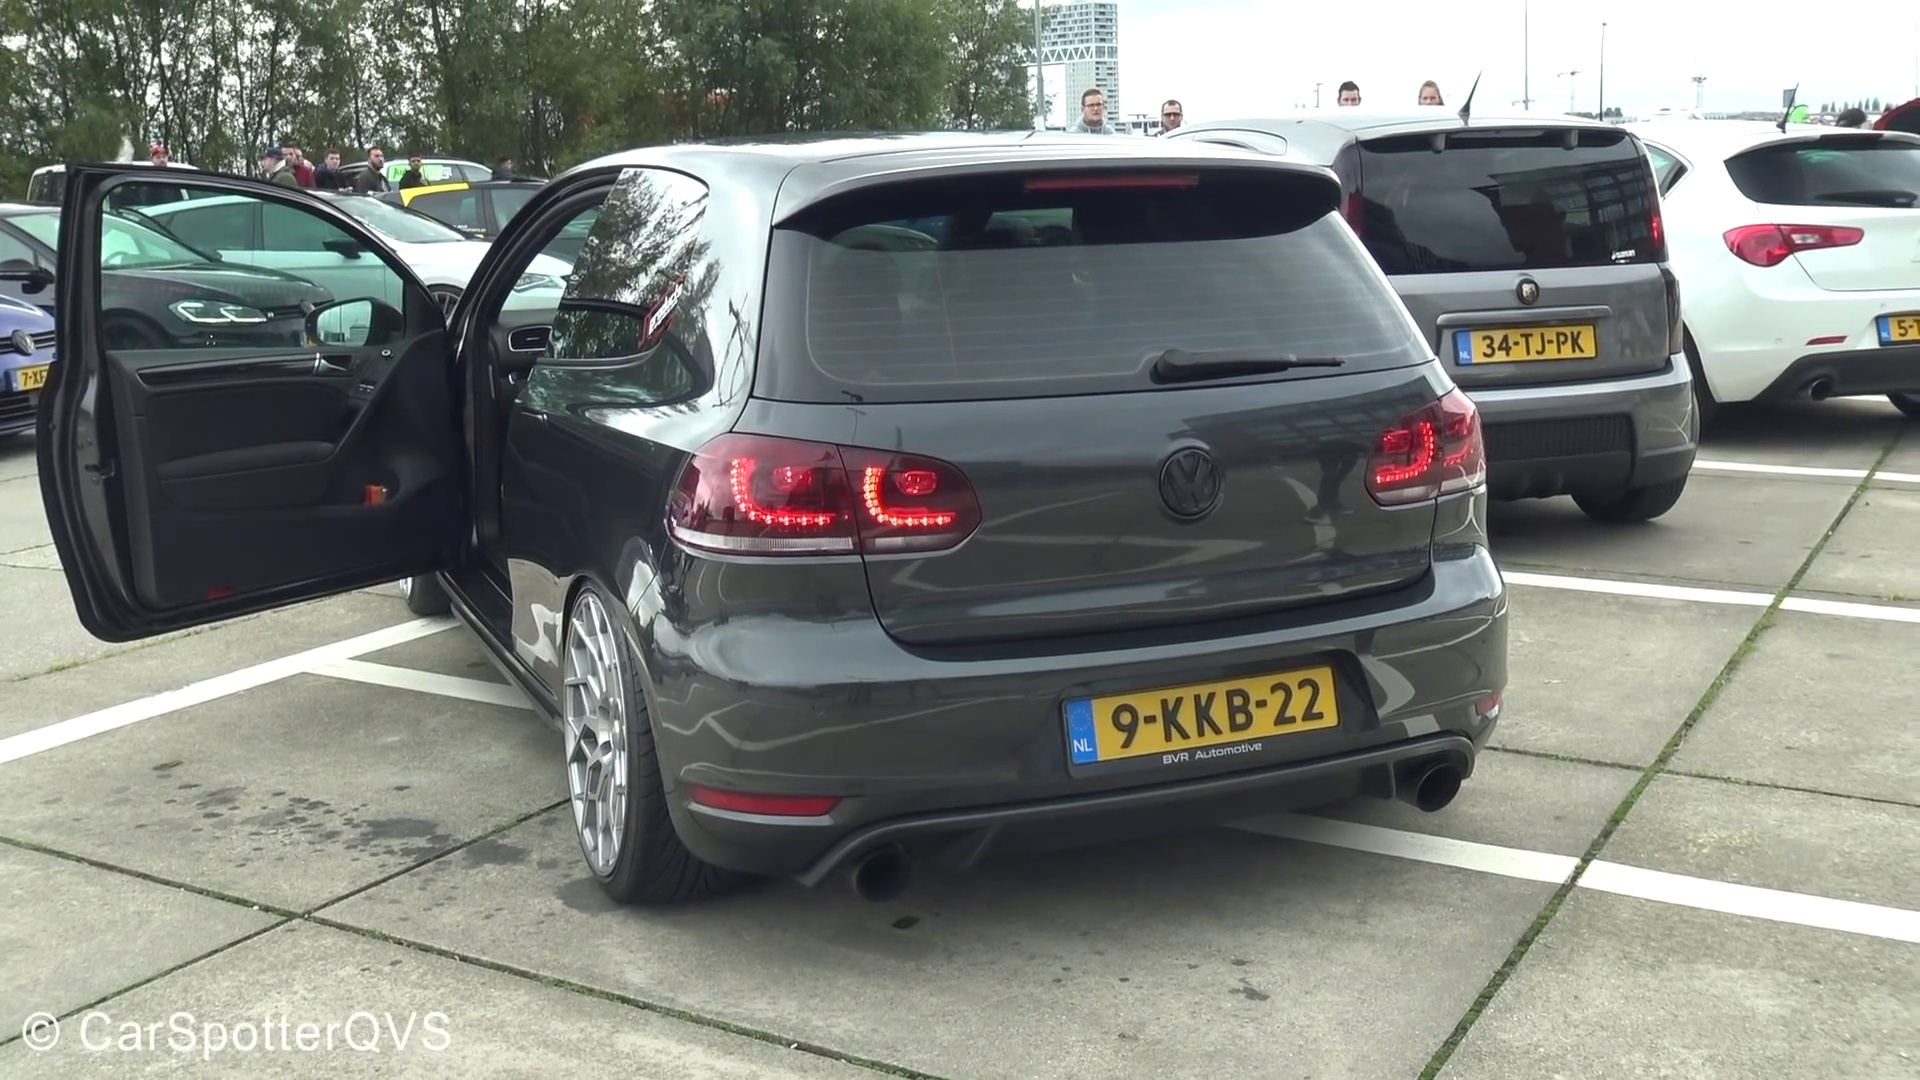number_plate: (1058, 660, 1351, 756)
